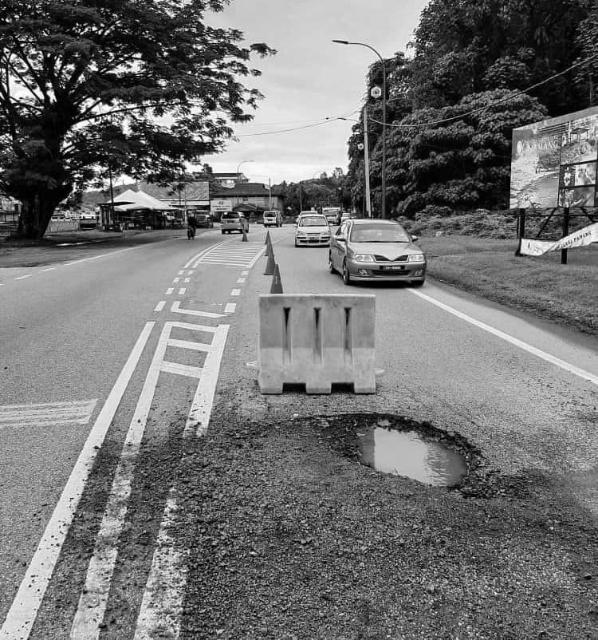Pothole: (284, 412, 490, 508)
